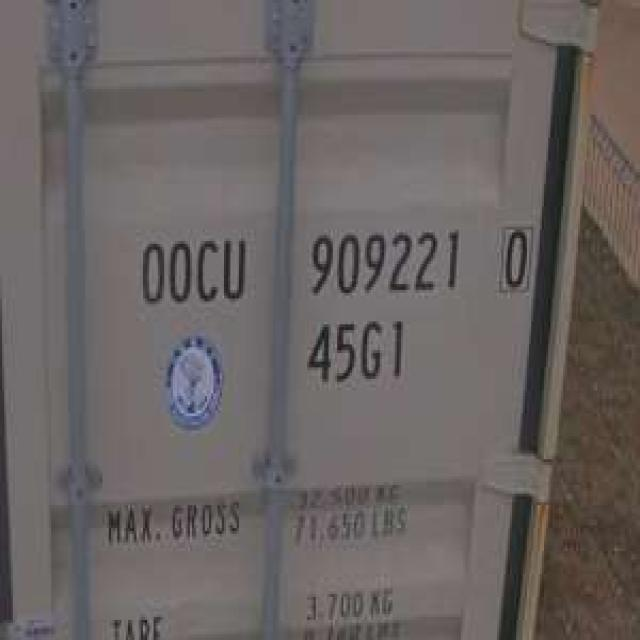dv: (493, 223, 538, 298)
owner: (137, 233, 253, 308)
serial: (300, 218, 464, 302)
size: (301, 316, 414, 389)
